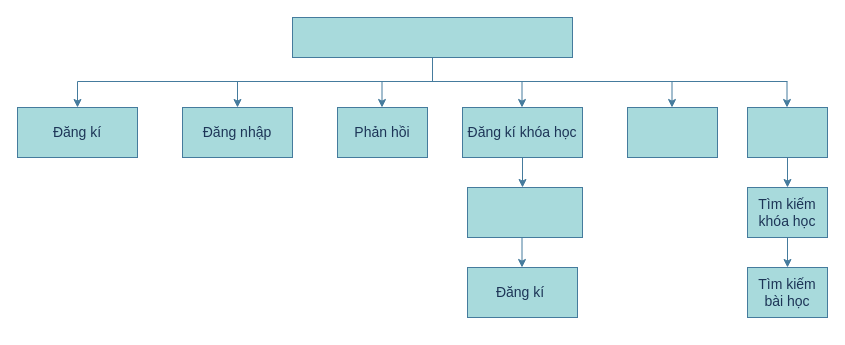
The diagram is 845 pixels wide and 345 high, and some of its shapes have lost their labels. Each missing label, with the box of its shape:
Làm bài tập: (626, 106, 718, 158)
Sinh viên: (292, 16, 572, 58)
Tìm kiếm: (746, 106, 828, 158)
Xem khóa học của tôi: (466, 186, 582, 238)
